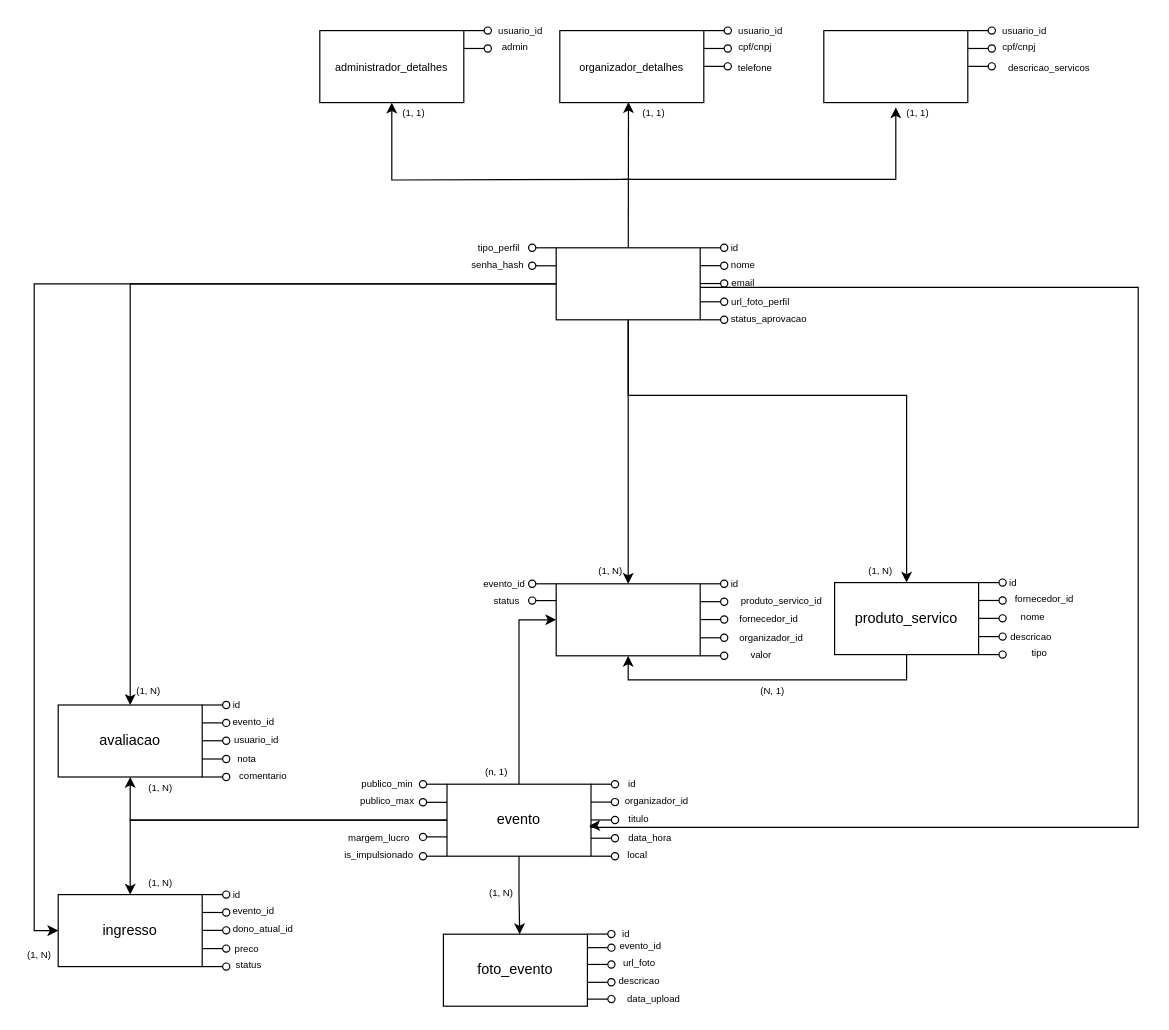
This 1169x1030 diagram has some shape labels left out. The shapes that lost their labels are listed below. From the top down, each one's centre as x and y in pixels, then its label:
At [895,66]: "fornecedor_detalhes".
At [627,283]: "usuário".
At [627,619]: "oferta".
